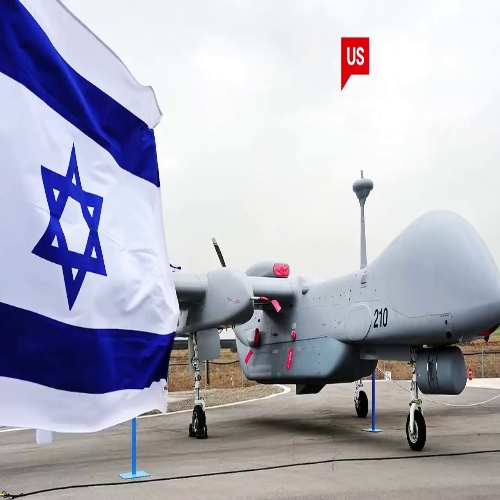uav60: (180, 176, 497, 401)
